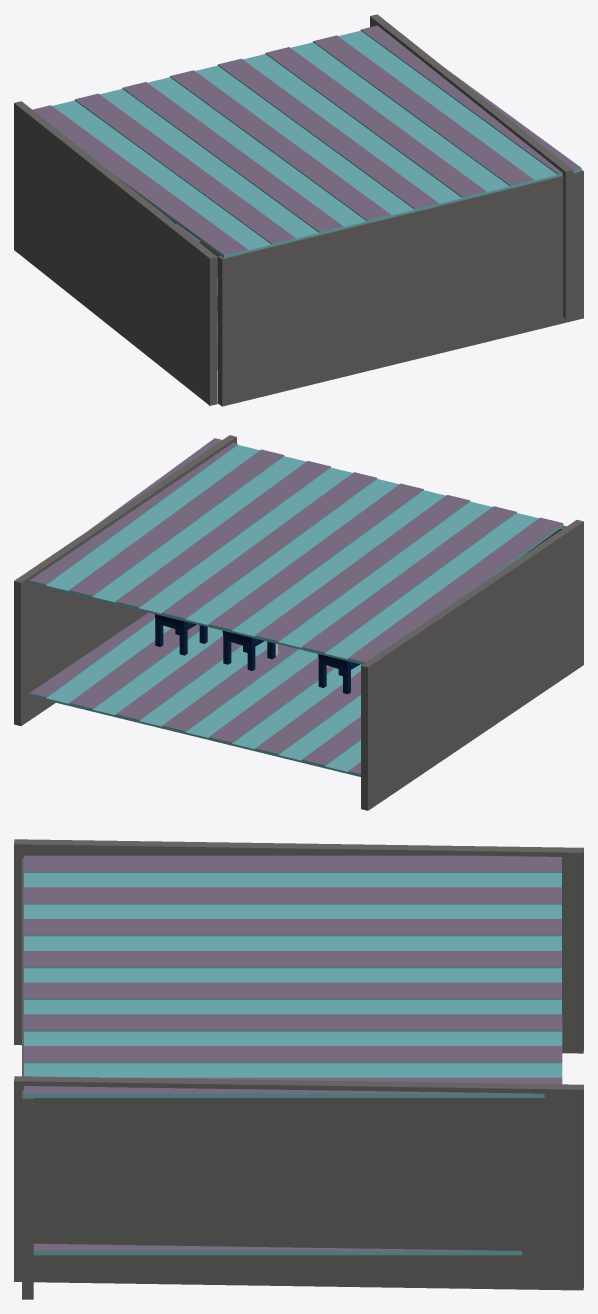
Rendered from resto1.glb.
3 views of the same model, one above another, from view 1: azimuth 30°, elevation 25°; view 2: azimuth 150°, elevation 25°; view 3: azimuth 270°, elevation 25° (orthographic). The views are drawn at different scales.
Visible parts, largest first — view 1: Cube.005, Cube.010, Cube.011, Cube.012; view 2: Cube.005, Cube.011, Cube.015, Cube.012, Cube.022, Cube.021, Cube.009; view 3: Cube.005, Cube.012, Cube.011, Cube.015, Cube.010.
Part boxes in pixels (box(x1,y1,x2,y2)): Cube.005: box(33, 25, 581, 258); Cube.010: box(218, 170, 583, 406); Cube.011: box(14, 101, 217, 405); Cube.012: box(370, 14, 573, 318); Cube.005: box(29, 438, 563, 664); Cube.011: box(361, 520, 583, 810); Cube.015: box(29, 612, 361, 776); Cube.012: box(14, 435, 236, 725); Cube.022: box(154, 614, 207, 655); Cube.021: box(222, 631, 275, 670); Cube.009: box(318, 654, 359, 694); Cube.005: box(24, 855, 561, 1097); Cube.012: box(14, 1076, 583, 1290); Cube.011: box(14, 839, 583, 1053); Cube.015: box(33, 1015, 562, 1255); Cube.010: box(22, 858, 33, 1299).
Size of the model in its own units: 17.67 by 6.88 by 16.96.
